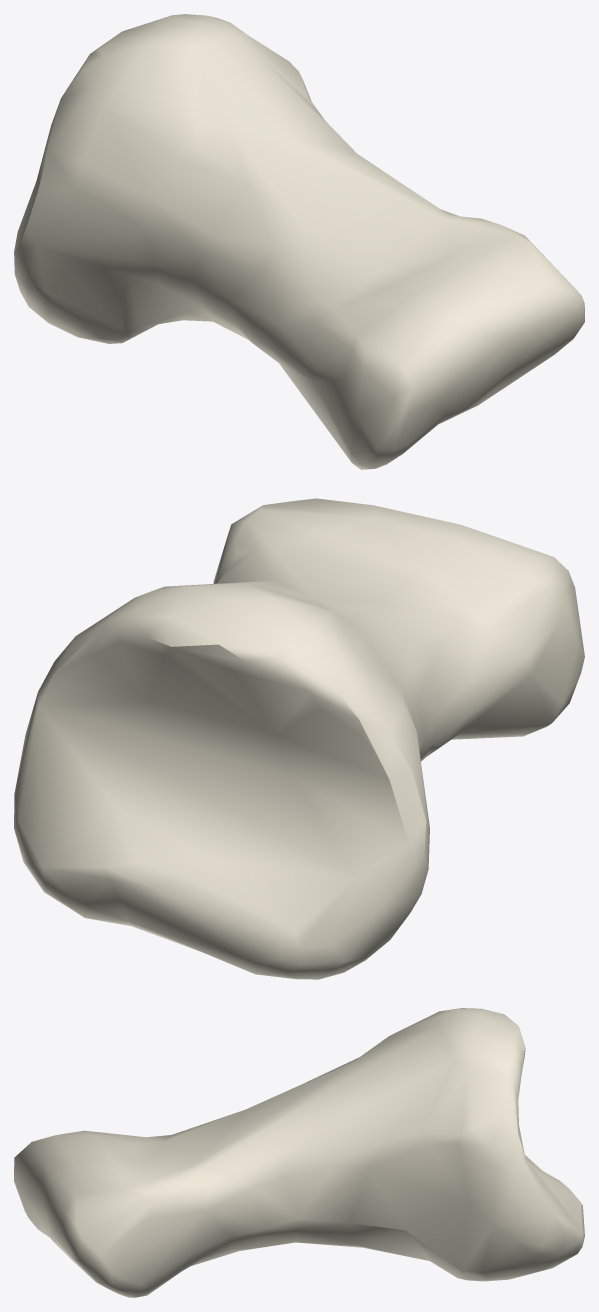
The model's file is fma32645.glb.
The picture shows the model from 3 angles, top to bottom: view 1: azimuth 30°, elevation 25°; view 2: azimuth 150°, elevation 25°; view 3: azimuth 270°, elevation 25°; orthographic projection. The views are drawn at different scales.
Visible parts, largest first — view 1: FMA32645; view 2: FMA32645; view 3: FMA32645.
Boxes of the visible parts, x1,y1,x2,y2 form: FMA32645: [14, 14, 584, 469]; FMA32645: [14, 498, 584, 979]; FMA32645: [14, 1008, 584, 1297].
Bounding box in the file's own units: 0.0108 × 0.00817 × 0.0169.
